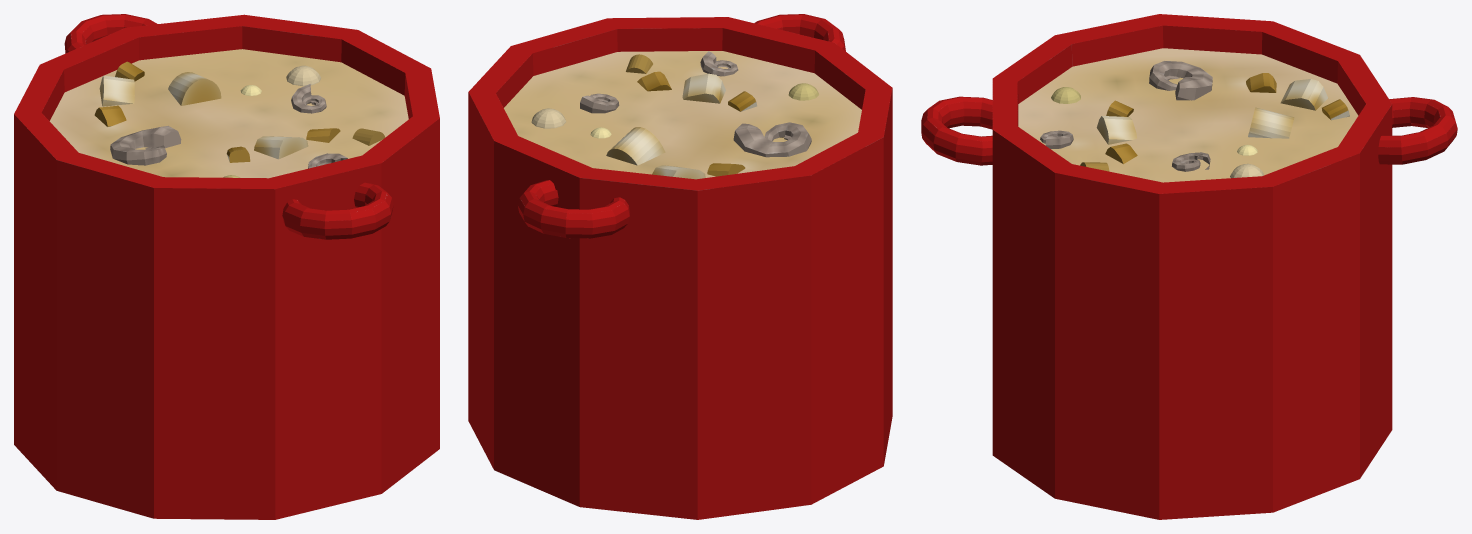
The model's file is rondon en olla.fbx.
The picture shows the model from 3 angles, left to right: view 1: azimuth 30°, elevation 25°; view 2: azimuth 150°, elevation 25°; view 3: azimuth 270°, elevation 25°; orthographic projection.
Parts seen in each view (by area): view 1: Cylinder, Cylinder.001, Torus.001, Vuelta_04, Cube.002, Cube.003, Torus, Cube, Vuelta_03.002, Sphere.001; view 2: Cylinder, Cylinder.001, Torus, Cube.003, Vuelta_04, Torus.001, Cube, Cube.002, Vuelta_03.002, Vuelta_03.001, Sphere.001; view 3: Cylinder, Cylinder.001, Torus.001, Torus, Cube.002, Cube.003, Vuelta_04, Cube.
Boxes of the visible parts, x1,y1,x2,y2 form: Cylinder: (14,14,439,519); Cylinder.001: (49,49,408,178); Torus.001: (282,182,393,239); Vuelta_04: (110,125,181,165); Cube.002: (94,61,144,126); Cube.003: (226,128,340,162); Torus: (64,14,157,53); Cube: (168,72,221,105); Vuelta_03.002: (291,84,326,113); Sphere.001: (286,65,320,86); Cylinder: (468,17,892,519); Cylinder.001: (504,51,861,177); Torus: (517,180,629,238); Cube.003: (637,71,757,111); Vuelta_04: (733,122,811,157); Torus.001: (754,14,845,51); Cube: (606,127,665,165); Cube.002: (652,163,745,179); Vuelta_03.002: (580,93,619,113); Vuelta_03.001: (700,51,738,76); Sphere.001: (531,108,566,128); Cylinder: (992,14,1392,519); Cylinder.001: (1018,48,1358,182); Torus.001: (921,96,992,165); Torus: (1378,97,1457,164); Cube.002: (1246,73,1349,120); Cube.003: (1096,100,1137,163); Vuelta_04: (1149,61,1212,100); Cube: (1248,107,1294,138).
Size of the model in its own units: 143 by 120 by 180.
Materials: 14 (10 with a texture image).
